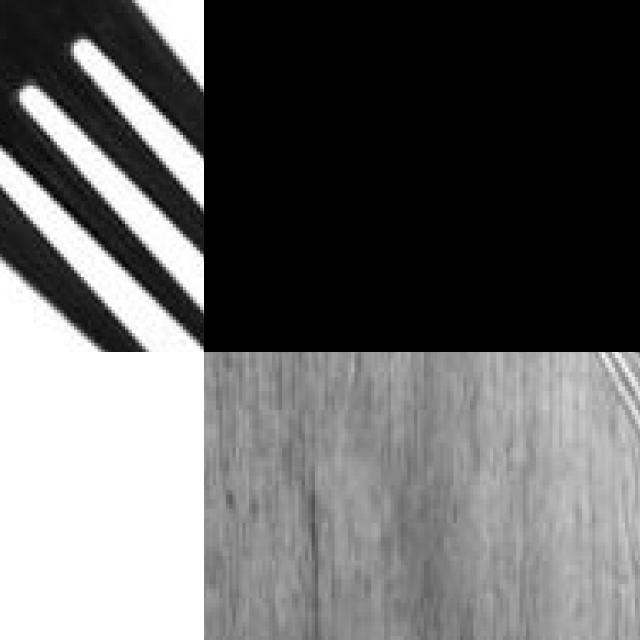forks: (0, 0, 204, 352)
